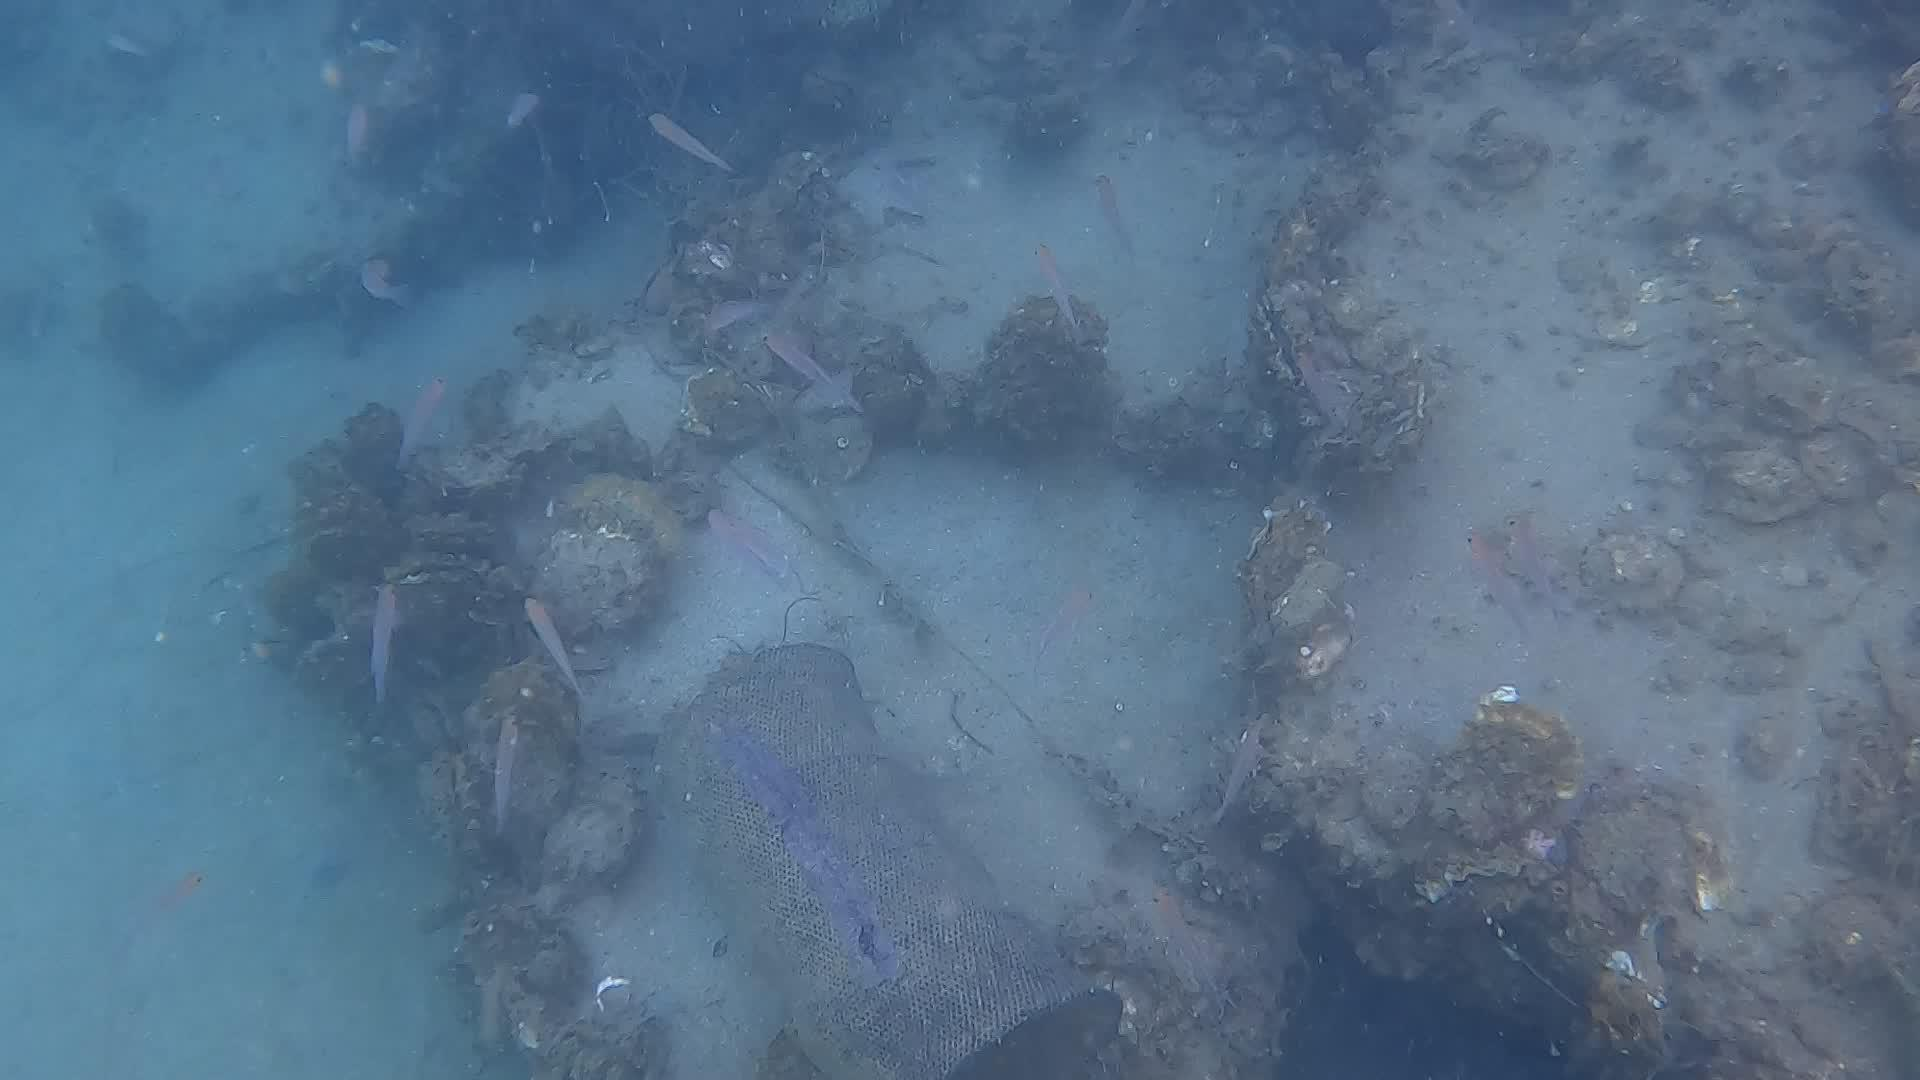spring fish trap: (655, 637, 1127, 1080)
